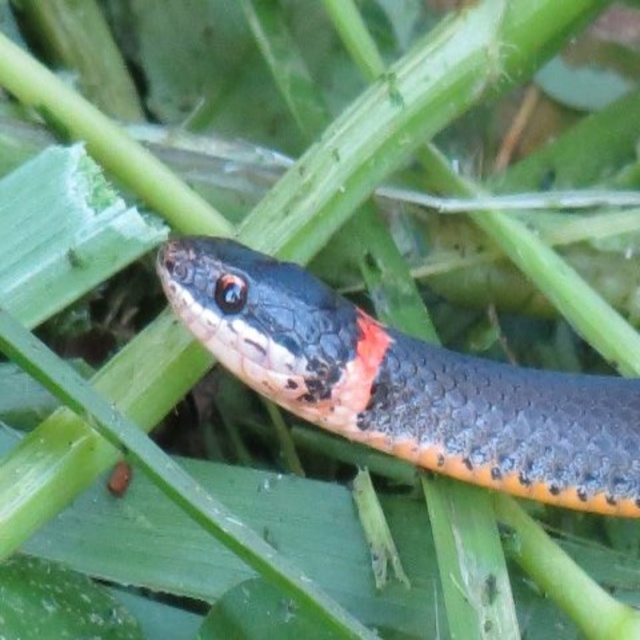Snake: (155, 234, 640, 519)
